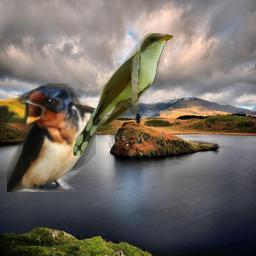Cuckoo: (73, 33, 173, 156)
Swallow: (7, 83, 96, 192)
